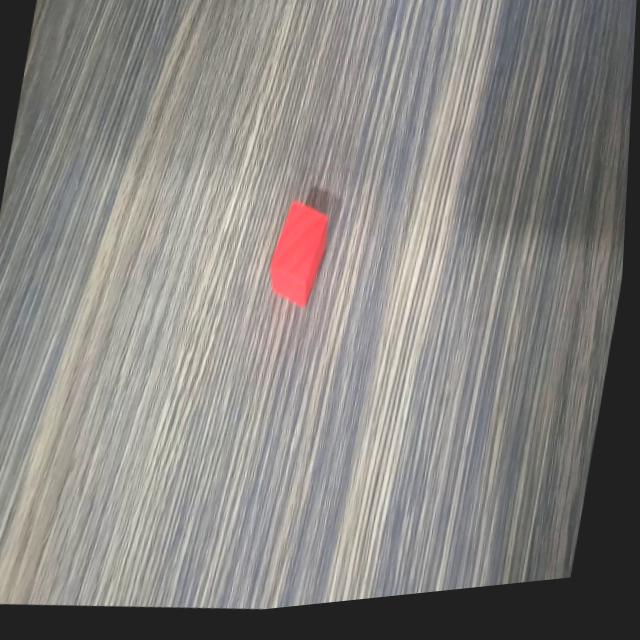cube: (263, 197, 339, 324)
